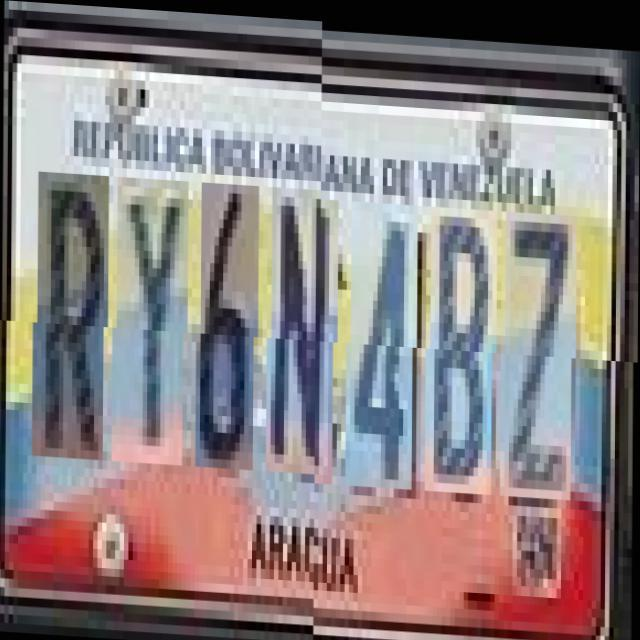4: (350, 196, 418, 484)
6: (200, 188, 259, 476)
B: (430, 201, 498, 488)
N: (271, 192, 339, 480)
R: (37, 180, 109, 468)
Y: (116, 184, 188, 472)
Z: (505, 205, 577, 492)
